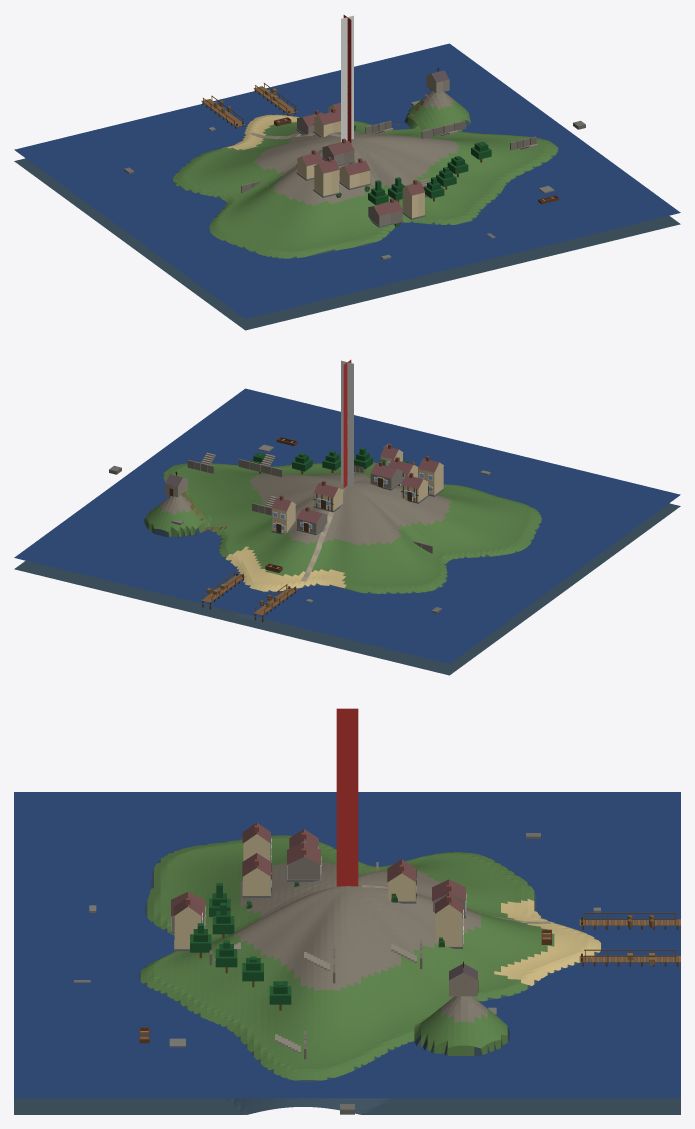
Rendered from scene_bad_v5_boat_sunk.obj.
3 renders of one model, top to bottom at view 1: azimuth 30°, elevation 25°; view 2: azimuth 150°, elevation 25°; view 3: azimuth 270°, elevation 25°, orthographic. The views are drawn at different scales.
Parts seen in each view (by area): view 1: water, terrain, lighthouse_tower, house_3_two_story, house_9_two_story, house_4_timber, house_8_stone, house_2_stone, house_7_timber, wall_3, house_1_timber; view 2: water, terrain, lighthouse_tower, house_6_two_story, house_3_two_story, house_7_timber, house_2_stone, house_5_stone, house_1_timber, wall_3, wall_2, pier_1; view 3: water, terrain, lighthouse_tower, house_6_two_story, house_2_stone, house_4_timber, house_9_two_story, house_7_timber, pier_2, pier_1, house_3_two_story, chapel_1 (+2 smaller).
Boxes of the visible parts, left/top/right/bottom form: water: left=14, top=43, right=680, bottom=318; terrain: left=14, top=91, right=680, bottom=330; lighthouse_tower: left=341, top=15, right=353, bottom=142; house_3_two_story: left=313, top=157, right=339, bottom=197; house_9_two_story: left=402, top=179, right=425, bottom=219; house_4_timber: left=339, top=158, right=370, bottom=189; house_8_stone: left=368, top=198, right=403, bottom=227; house_2_stone: left=322, top=138, right=354, bottom=166; house_7_timber: left=313, top=108, right=340, bottom=137; wall_3: left=365, top=120, right=538, bottom=150; house_1_timber: left=296, top=150, right=323, bottom=180; water: left=14, top=388, right=680, bottom=663; terrain: left=14, top=462, right=680, bottom=675; lighthouse_tower: left=341, top=360, right=353, bottom=487; house_6_two_story: left=271, top=495, right=295, bottom=534; house_3_two_story: left=418, top=456, right=444, bottom=496; house_7_timber: left=313, top=480, right=343, bottom=512; house_2_stone: left=370, top=461, right=402, bottom=490; house_5_stone: left=296, top=506, right=327, bottom=535; house_1_timber: left=401, top=472, right=428, bottom=503; wall_3: left=187, top=452, right=278, bottom=515; wall_2: left=238, top=454, right=282, bottom=477; pier_1: left=253, top=584, right=297, bottom=621; water: left=14, top=792, right=680, bottom=1098; terrain: left=14, top=835, right=680, bottom=1114; lighthouse_tower: left=336, top=708, right=358, bottom=886; house_6_two_story: left=435, top=894, right=463, bottom=948; house_2_stone: left=287, top=842, right=321, bottom=881; house_4_timber: left=242, top=853, right=271, bottom=897; house_9_two_story: left=174, top=897, right=202, bottom=951; house_7_timber: left=387, top=859, right=416, bottom=903; pier_2: left=579, top=949, right=680, bottom=966; pier_1: left=579, top=912, right=680, bottom=929; house_3_two_story: left=242, top=822, right=271, bottom=878; chapel_1: left=449, top=961, right=478, bottom=996.
Bounding box in the file's own units: 104 × 38.5 × 92.
